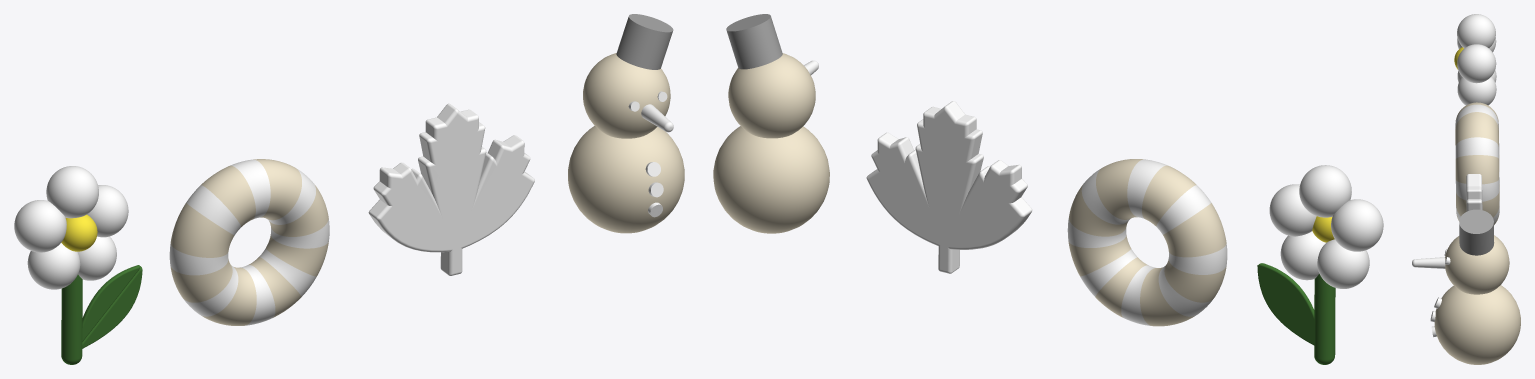
File: season2.glb
3 renders of one model, left to right at view 1: azimuth 30°, elevation 25°; view 2: azimuth 150°, elevation 25°; view 3: azimuth 270°, elevation 25°, orthographic. The views are drawn at different scales.
Parts seen in each view (by area): view 1: Body15, Body27, Body25, Body5; view 2: Body15, Body27, Body25, Body5; view 3: Body27, Body15, Body5, Body25.
Part boxes in pixels (bbox=[...]): Body15: bbox=[169, 159, 329, 325]; Body27: bbox=[568, 14, 684, 233]; Body25: bbox=[368, 103, 534, 275]; Body5: bbox=[14, 166, 142, 364]; Body15: bbox=[1067, 159, 1227, 326]; Body27: bbox=[713, 14, 829, 233]; Body25: bbox=[866, 101, 1032, 273]; Body5: bbox=[1257, 165, 1383, 364]; Body27: bbox=[1412, 209, 1520, 364]; Body15: bbox=[1455, 102, 1499, 224]; Body5: bbox=[1454, 14, 1496, 105]; Body25: bbox=[1466, 174, 1482, 211].
Size of the model in its own units: 0.2602 by 0.0788 by 0.0502.
